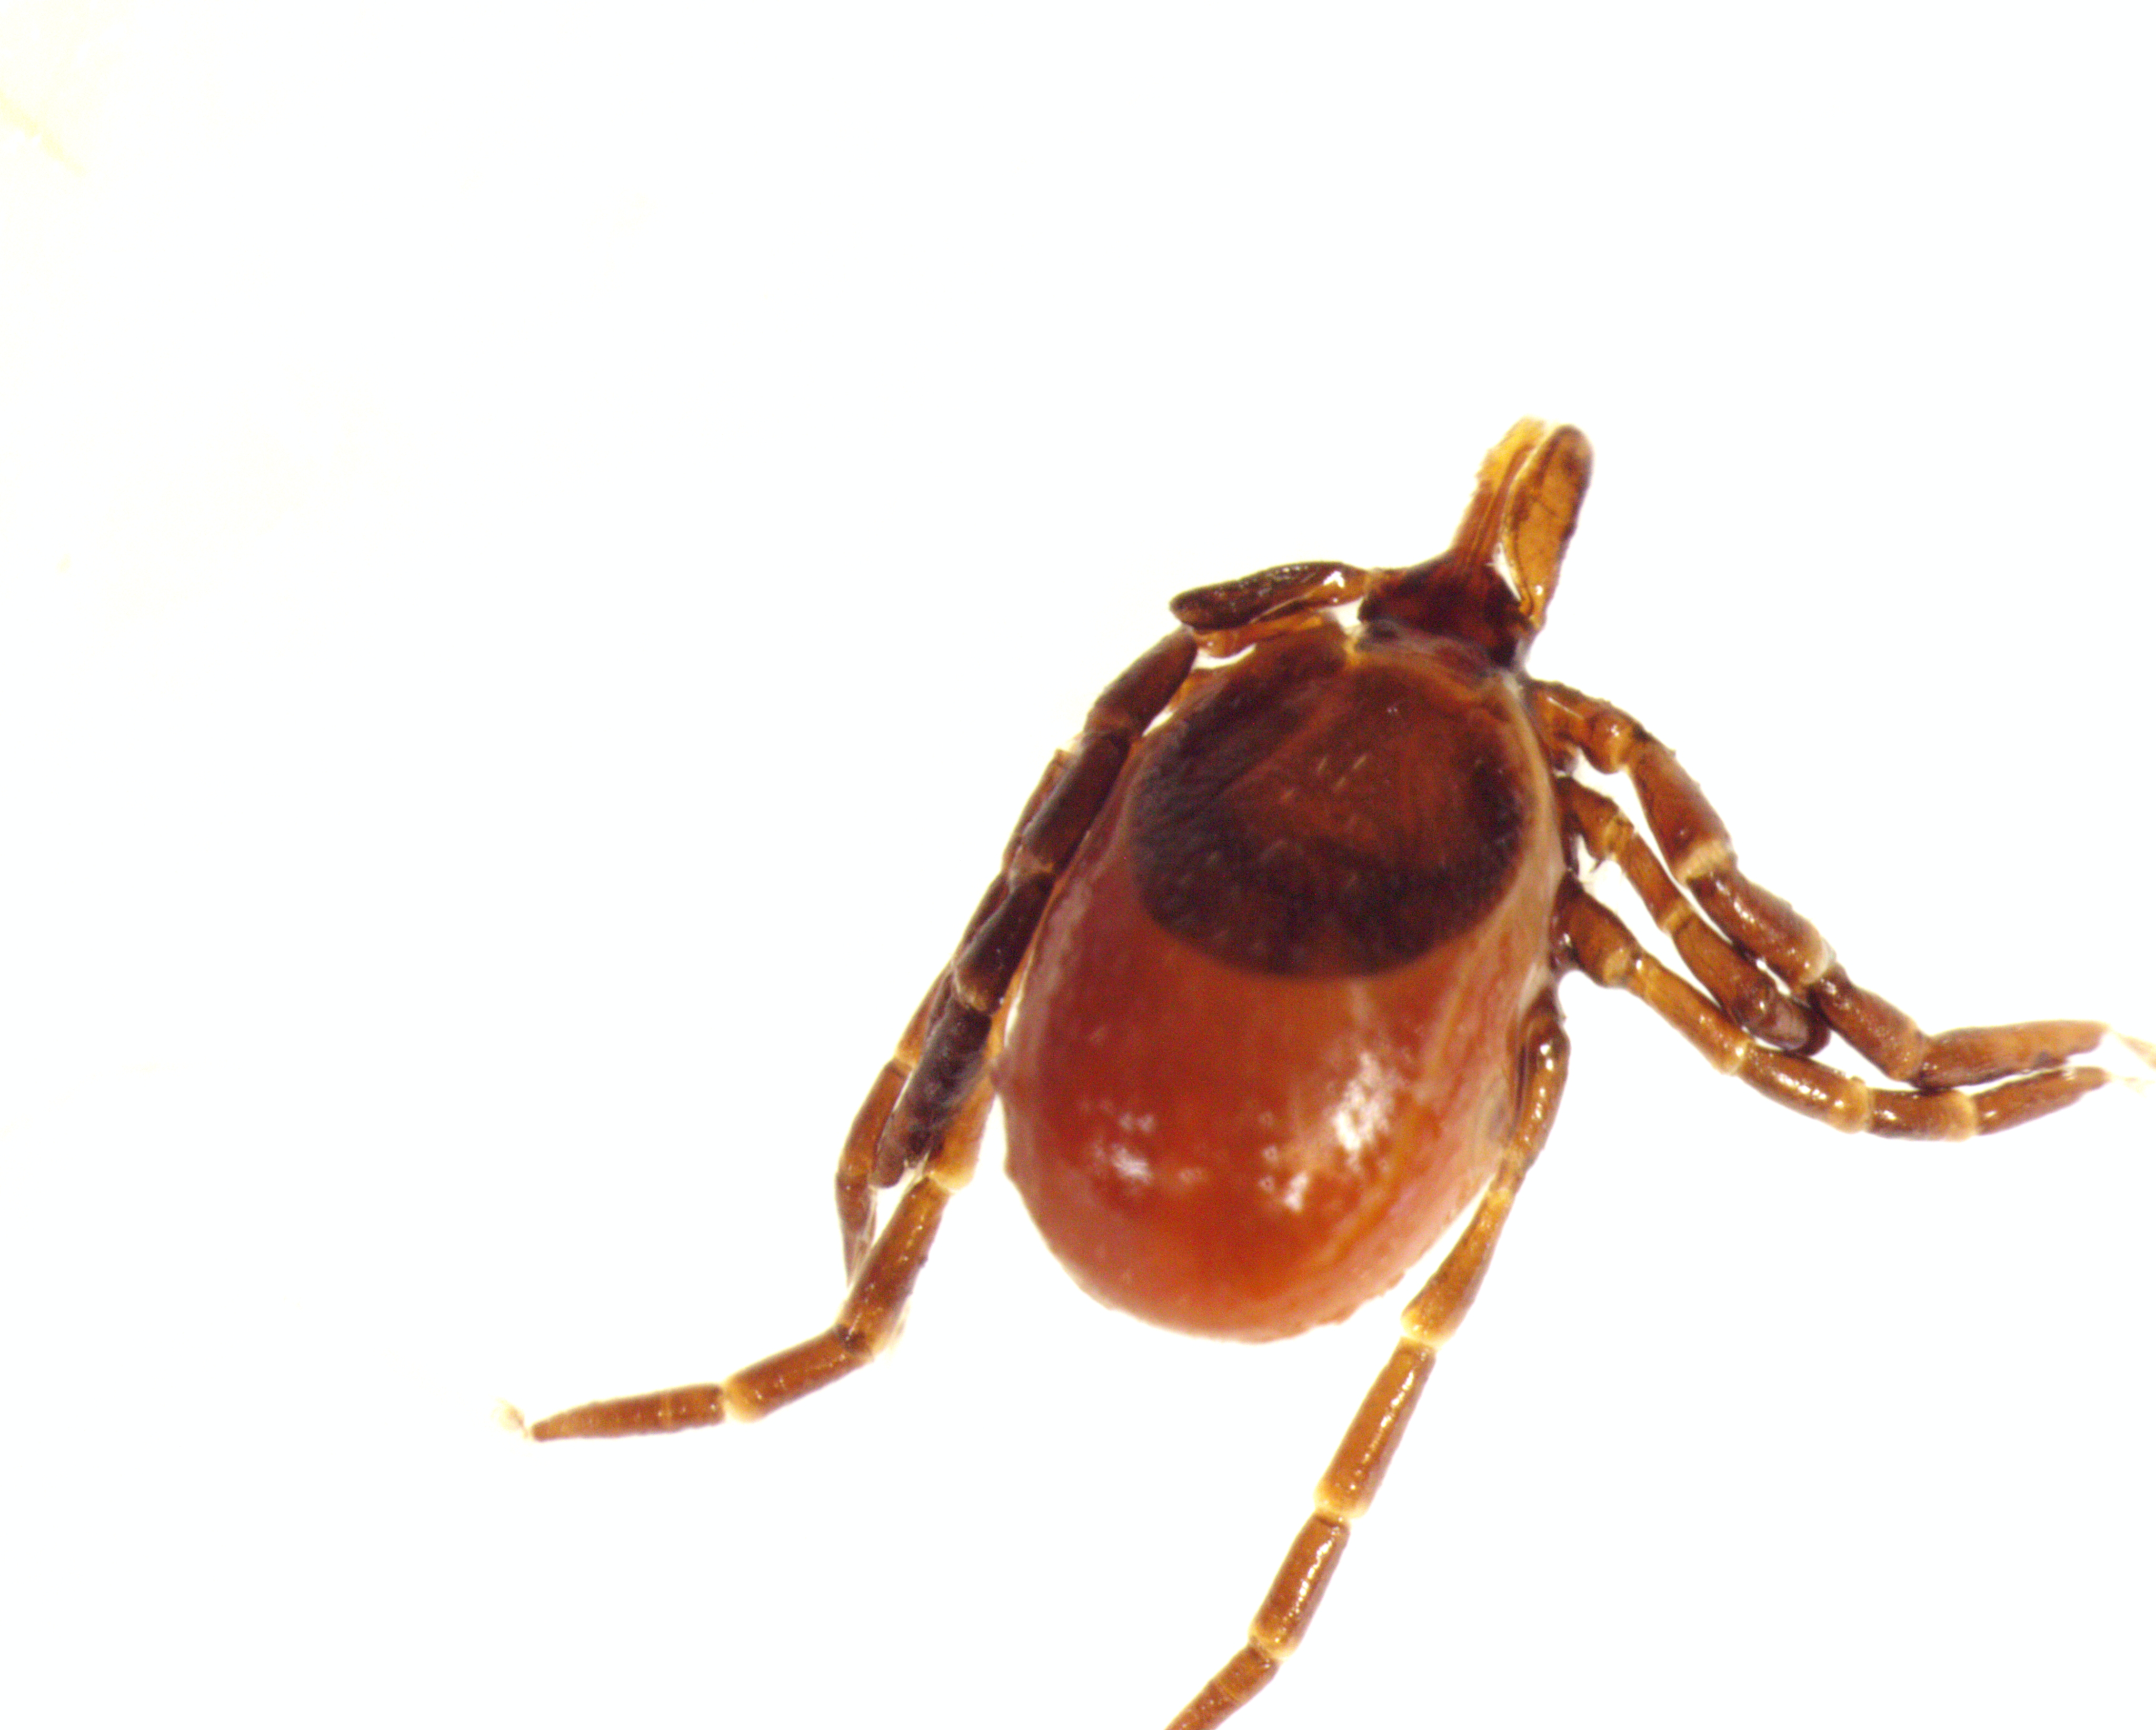unlabelled_tick: (477, 321, 2155, 1729), (473, 373, 2120, 1721), (1305, 316, 1312, 377)
